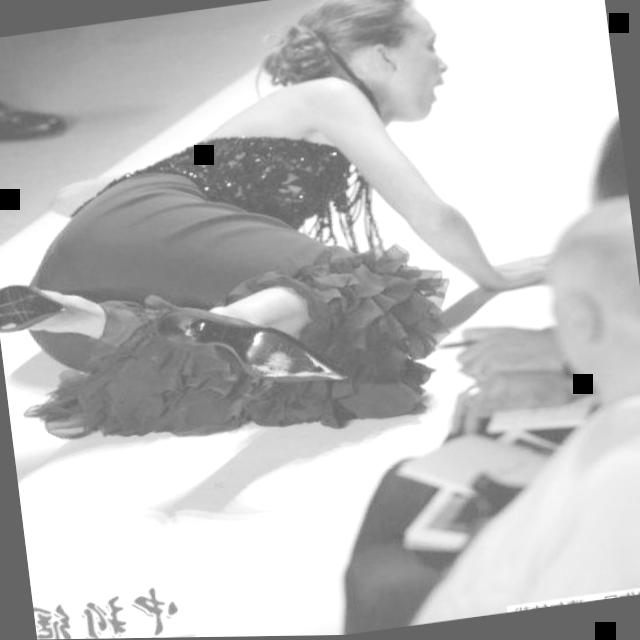Fall-Detected: (0, 0, 562, 476)
